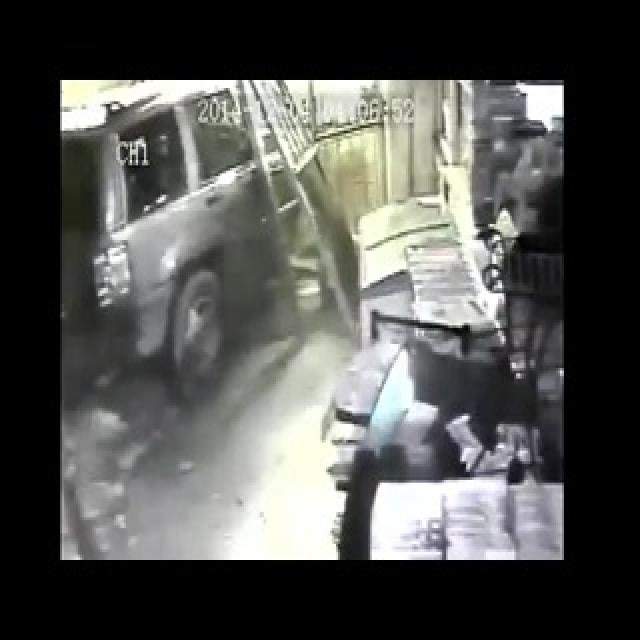burglary: (65, 88, 359, 416)
